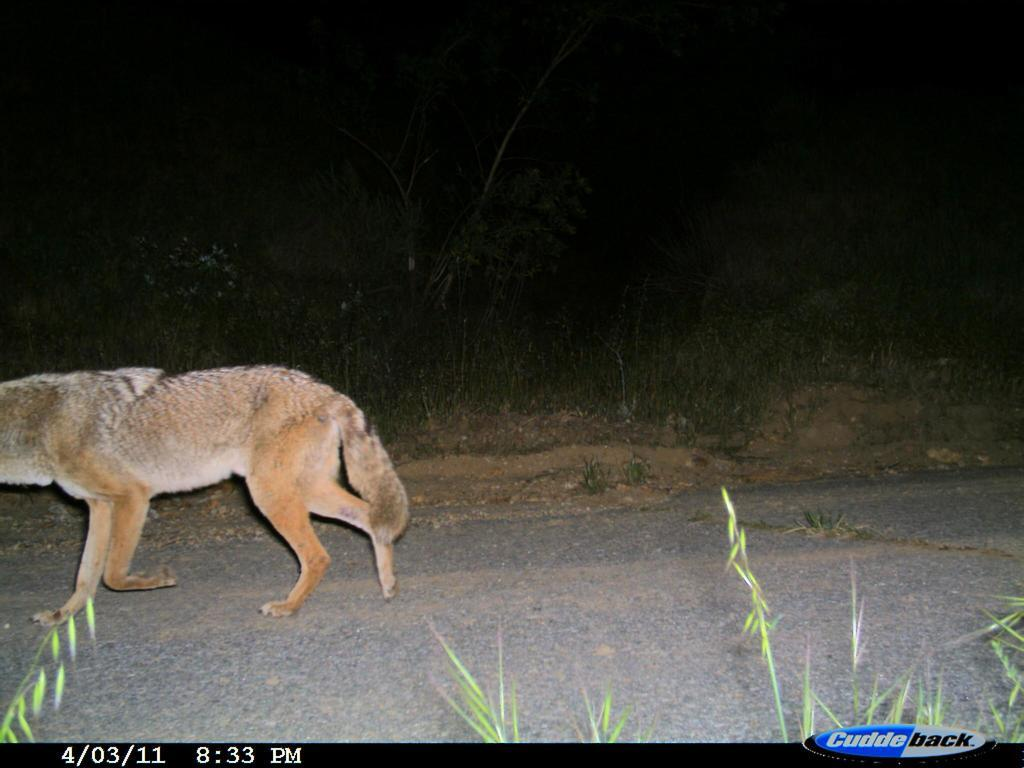coyote: (1, 350, 418, 641)
